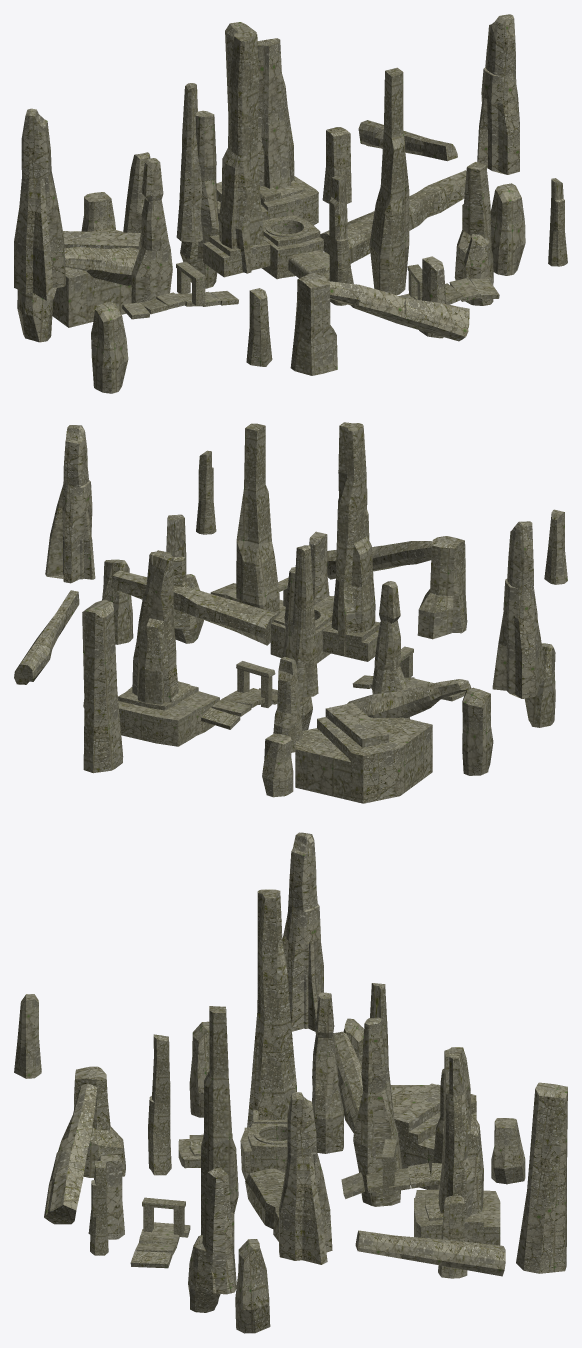
The model's file is SM_Chateaux_03_04.fbx.
3 renders of one model, top to bottom at view 1: azimuth 30°, elevation 25°; view 2: azimuth 150°, elevation 25°; view 3: azimuth 270°, elevation 25°, orthographic. The views are drawn at different scales.
Visible parts, largest first — view 1: SM_Chateaux_03_04; view 2: SM_Chateaux_03_04; view 3: SM_Chateaux_03_04.
Part boxes in pixels (<box>): SM_Chateaux_03_04: <box>14,14,567,393</box>; SM_Chateaux_03_04: <box>14,422,567,803</box>; SM_Chateaux_03_04: <box>14,832,567,1333</box>.
Size of the model in its own units: 6707 by 3738 by 6022.
